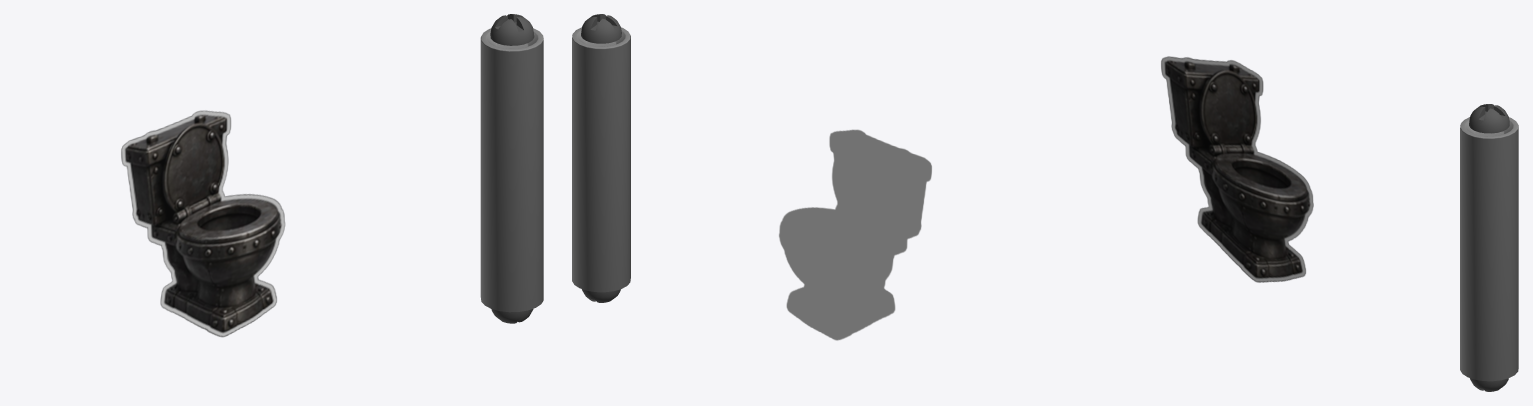
Rendered from sticker_roller_3.glb.
3 views of the same model, side by side, from view 1: azimuth 30°, elevation 25°; view 2: azimuth 150°, elevation 25°; view 3: azimuth 330°, elevation 25° (orthographic). The views are drawn at different scales.
Visible parts, largest first — view 1: Beta sticker logo front.001, Roller 2, polySurface1.001; view 2: Beta sticker logo back.001, Roller 2, polySurface1.001; view 3: Beta sticker logo front.001, Roller 2, polySurface1.001.
Part boxes in pixels (x1,y1,x2,y2): Beta sticker logo front.001: (121,110,285,337); Roller 2: (480,28,543,312); polySurface1.001: (490,14,534,45); Beta sticker logo back.001: (779,129,931,340); Roller 2: (572,27,630,292); polySurface1.001: (581,14,621,43); Beta sticker logo front.001: (1161,56,1313,282); Roller 2: (1460,117,1518,381); polySurface1.001: (1469,104,1509,133).
Size of the model in its own units: 16.5 by 9.46 by 1.97.
5 materials, 3 textured.
